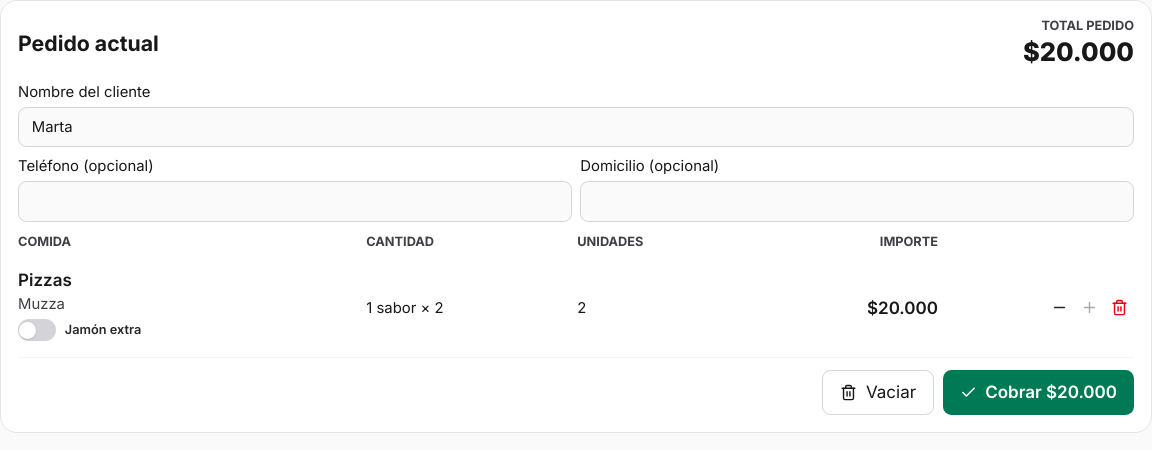
it: jamón extra en el carrito (US-47 CA-3 y CA-4) › cada pizza entra con el jamón apagado; prenderlo suma el precio a cada pizza del renglón (D-1)
Click the switch labelled "Jamón extra": coordinates (80, 330) [18, 320, 141, 341]
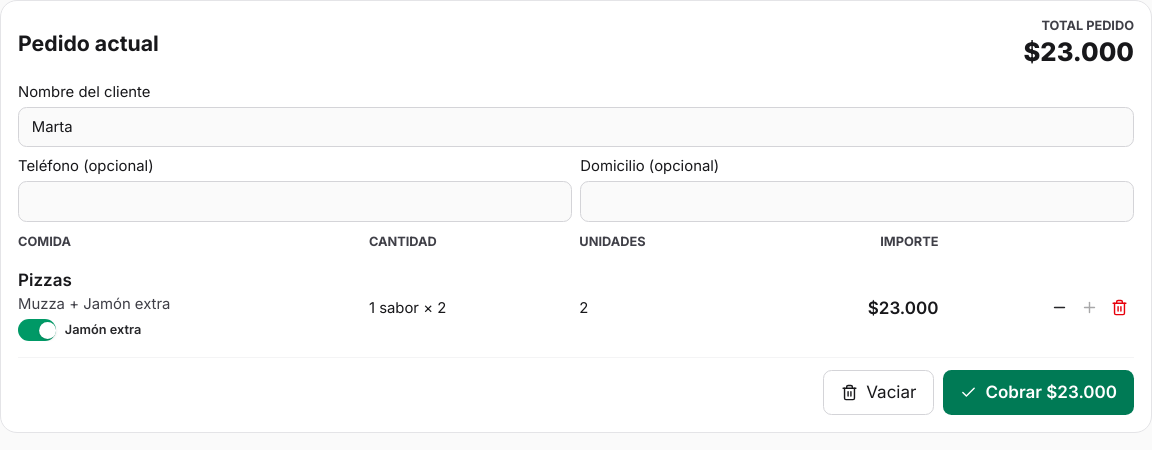
Expected: the text "Muzza + Jamón extra" is shown, [18, 295, 170, 313]
Expected: the text "$23.000" is shown, [1024, 36, 1134, 67]
